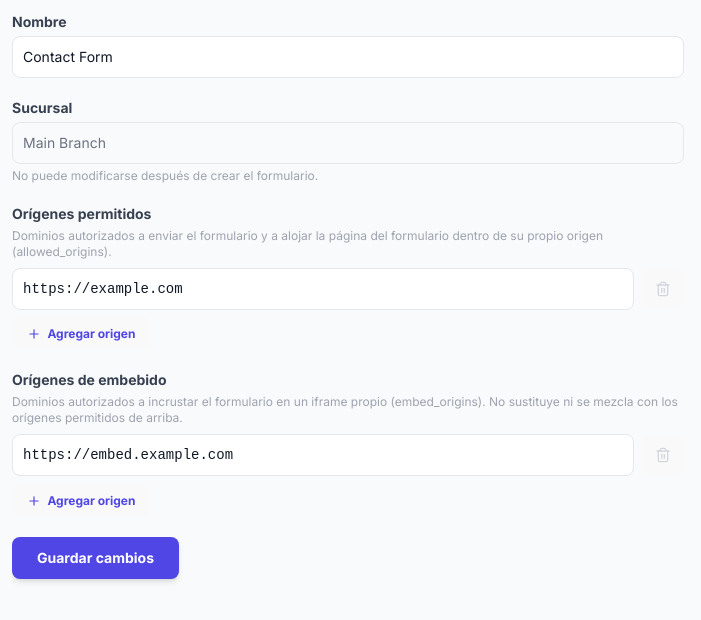
Test: GeneralTab — 409 must-be-paused and 422 handling › maps a 422 allowed_origins field error onto its own row
The image size is (701, 620).
Click the button "Guardar cambios" at coordinates (96, 558), box x1=12 y1=537 x2=179 y2=579
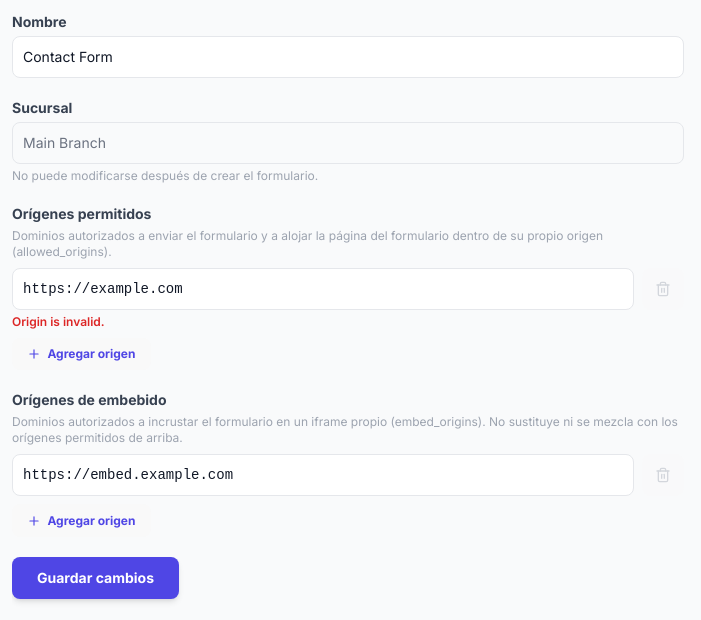
Expected: the text "Origin is invalid." is shown, x1=12 y1=314 x2=105 y2=329
